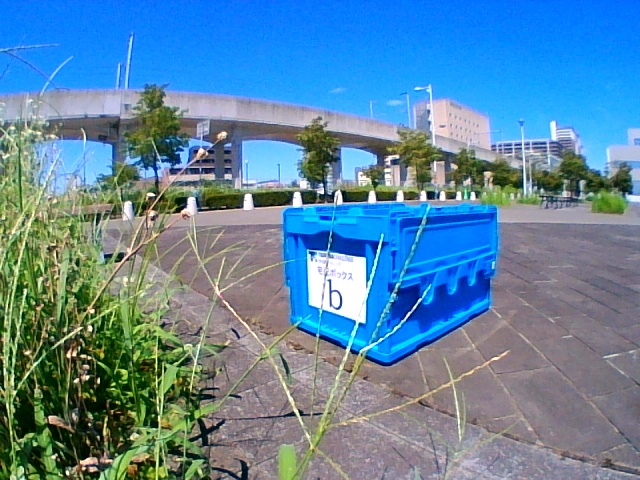blue_box: (289, 206, 470, 324)
tag_b: (317, 267, 363, 310)
